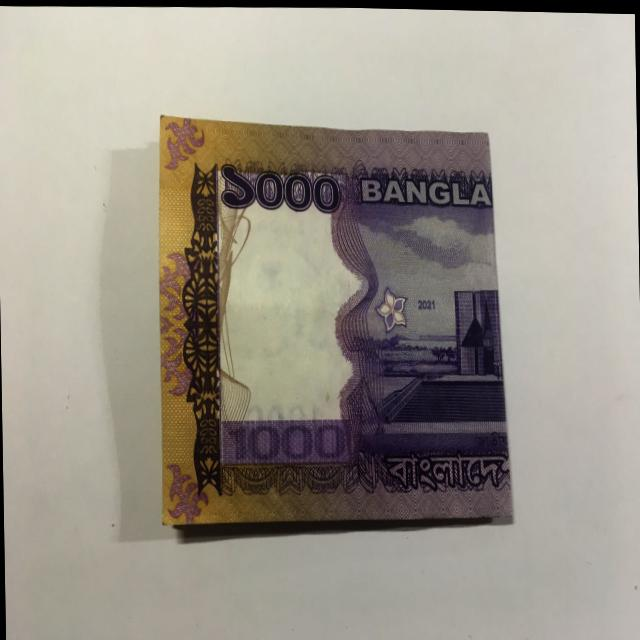Taka: (151, 97, 515, 534)
